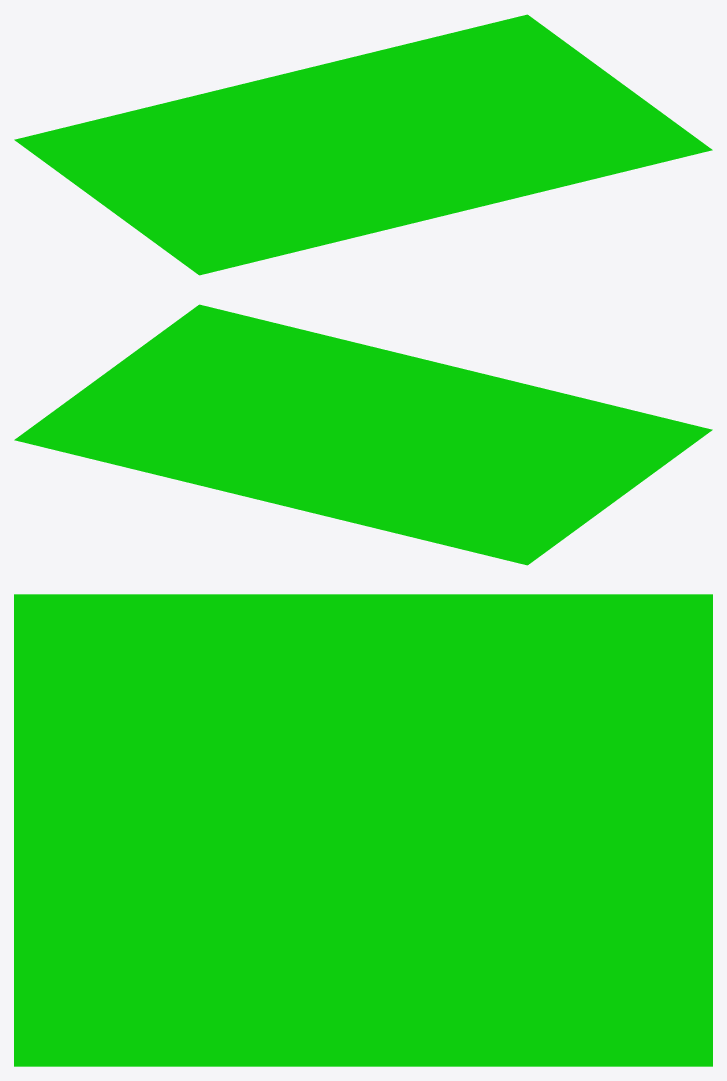
Rendered from engineHealthBar.fbx.
The picture shows the model from 3 angles, top to bottom: view 1: azimuth 30°, elevation 25°; view 2: azimuth 150°, elevation 25°; view 3: azimuth 270°, elevation 25°; orthographic projection. The views are drawn at different scales.
Visible parts, largest first — view 1: pPlane1; view 2: pPlane1; view 3: pPlane1.
Part boxes in pixels (left/top/right/bottom): pPlane1: left=14, top=14, right=712, bottom=275; pPlane1: left=14, top=304, right=712, bottom=565; pPlane1: left=14, top=594, right=712, bottom=1066.
Bounding box in the file's own units: 80 × 1.11e-14 × 50.
